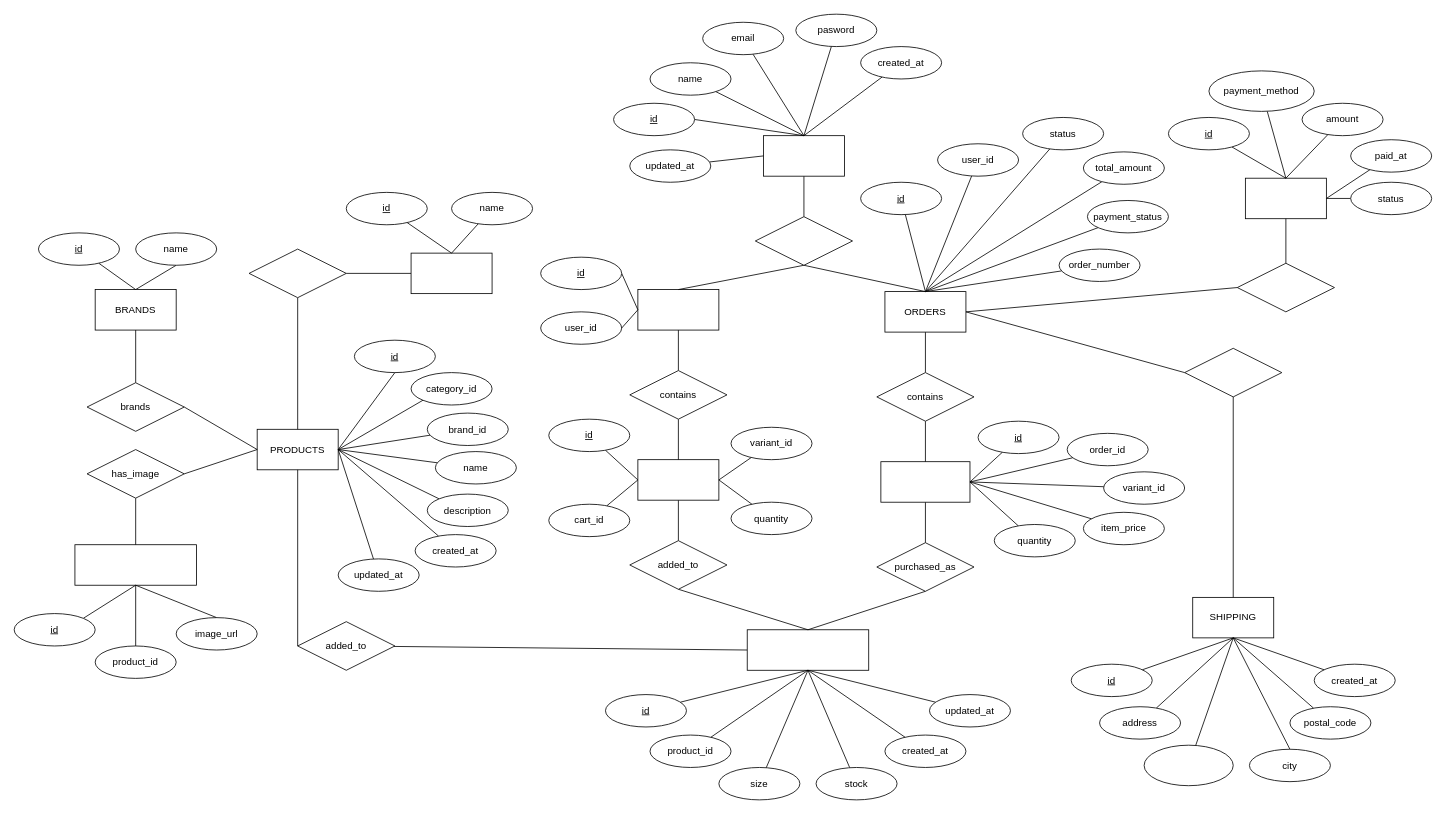
The diagram is 1446 pixels wide and 814 high, and some of its shapes have lost their labels. Here are the shapes that lost their labels. From the top down, the centre of each, then its label:
point (803, 155): USERS
point (1285, 198): PAYMENTS
point (804, 240): has
point (297, 273): categorizes
point (451, 273): CATEGORIES
point (1285, 287): paid_with
point (678, 309): CART
point (1233, 372): shipped_to
point (678, 479): CART_ITEMS
point (925, 481): ORDER_ITEMS
point (135, 564): PRODUCT_IMAGES
point (807, 649): PRODUCT_VARIANTS
point (1188, 765): phone_number
